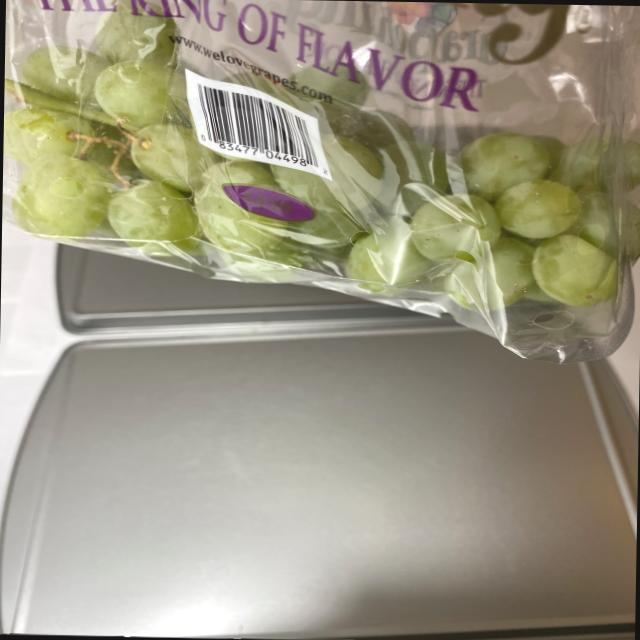grapes: (11, 22, 634, 313)
